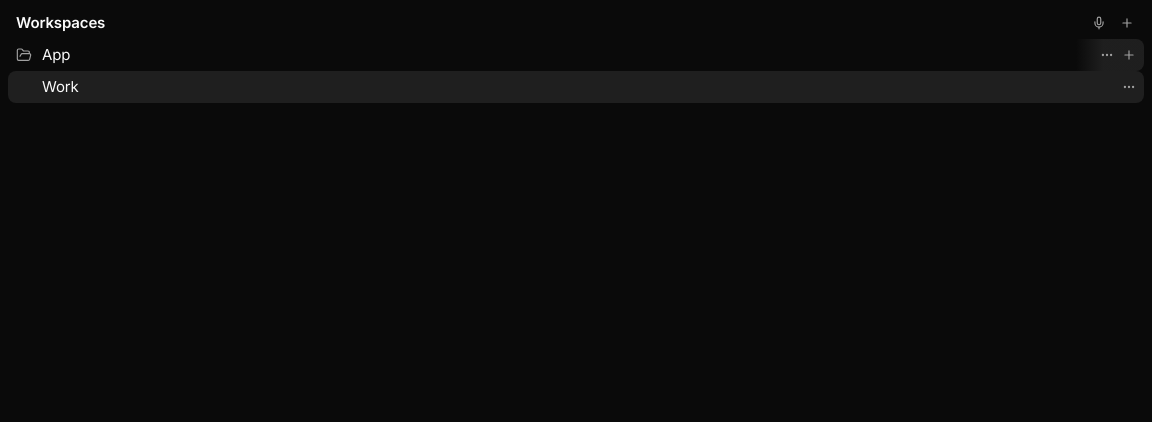
Test: has the editors ready the moment the menu opens
Click the button named "Project actions for App". click: x=1107, y=55
box: [1096,44,1118,66]
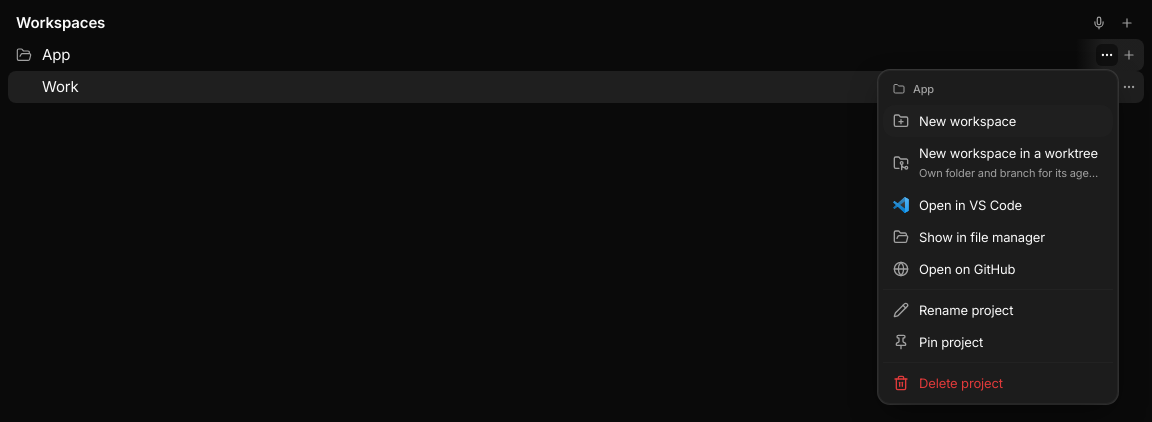
Expected: the menu item "Open in VS Code" is shown, [883,189,1113,221]
